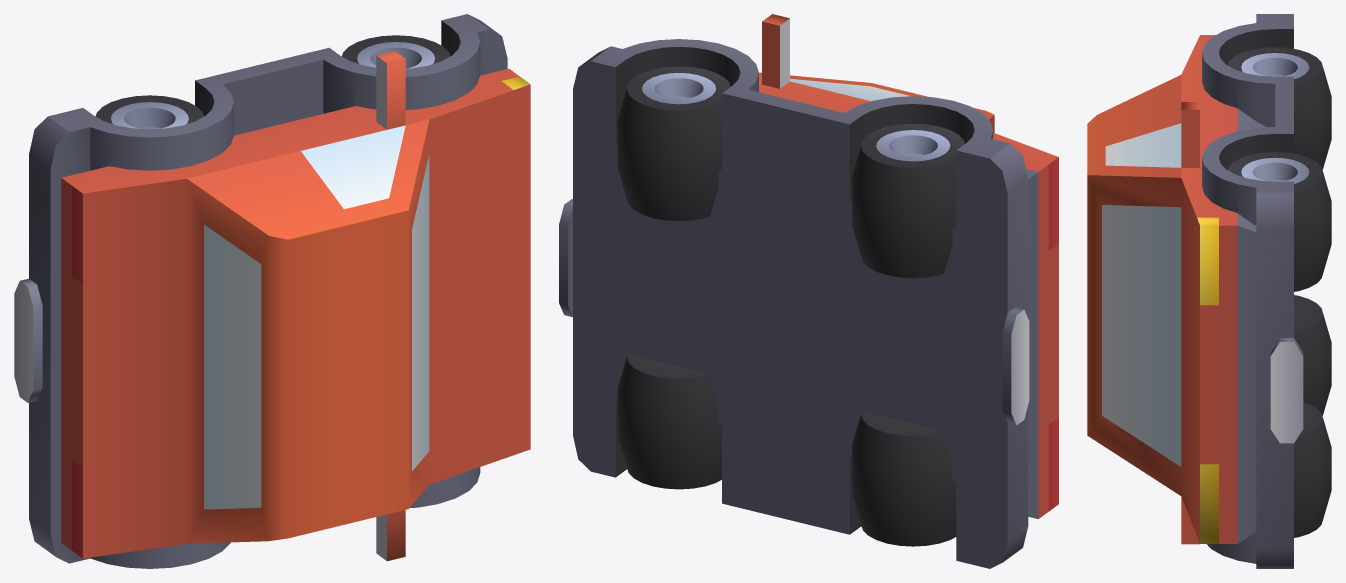
The model's file is car.glb.
3 renders of one model, left to right at view 1: azimuth 30°, elevation 25°; view 2: azimuth 150°, elevation 25°; view 3: azimuth 270°, elevation 25°, orthographic. The views are drawn at different scales.
Visible parts, largest first — view 1: body, wheel-back-left, wheel-front-left; view 2: body, wheel-back-left, wheel-front-left, wheel-back-right, wheel-front-right; view 3: body, wheel-front-left, wheel-back-left, wheel-front-right, wheel-back-right.
Boxes of the visible parts, left/top/right/bottom form: body: left=14, top=14, right=530, bottom=568; wheel-back-left: left=95, top=95, right=203, bottom=129; wheel-front-left: left=342, top=35, right=450, bottom=68; body: left=559, top=14, right=1058, bottom=568; wheel-back-left: left=852, top=123, right=964, bottom=278; wheel-front-left: left=617, top=66, right=730, bottom=220; wheel-back-right: left=852, top=411, right=956, bottom=546; wheel-front-right: left=617, top=354, right=721, bottom=489; body: left=1087, top=14, right=1303, bottom=568; wheel-front-left: left=1228, top=152, right=1331, bottom=291; wheel-back-left: left=1228, top=47, right=1331, bottom=169; wheel-front-right: left=1294, top=402, right=1331, bottom=537; wheel-back-right: left=1294, top=295, right=1331, bottom=415.
Size of the model in its own units: 1 by 1 by 0.5098.
1 material, 1 textured.
